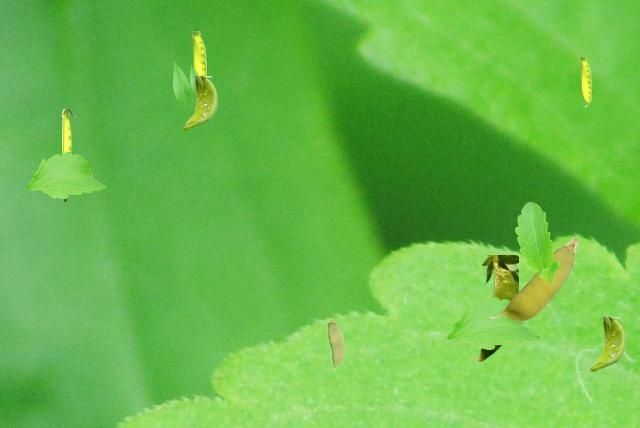pea: (489, 237, 577, 320), (473, 255, 517, 360), (589, 317, 624, 370), (181, 76, 216, 129), (62, 109, 75, 201), (328, 321, 343, 370), (192, 31, 205, 75), (580, 57, 590, 106)
